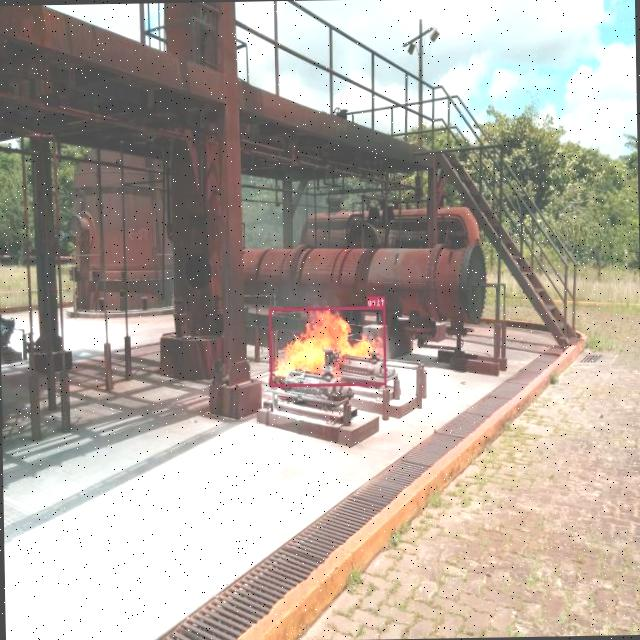fire: (269, 306, 386, 386)
